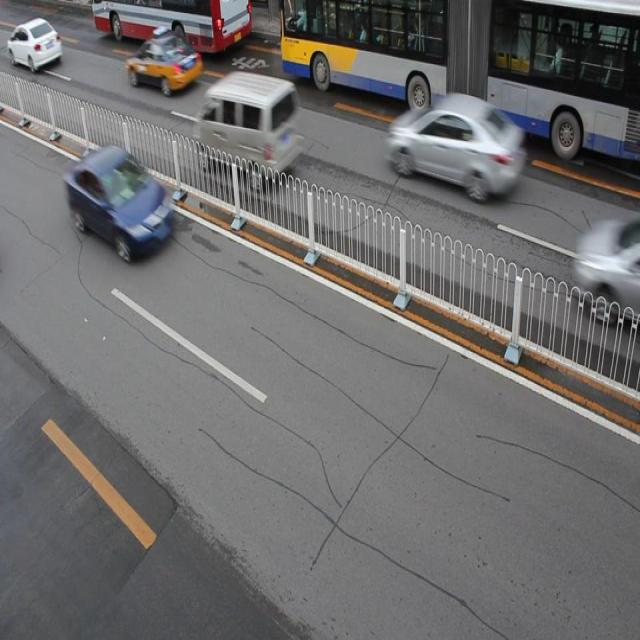car: (388, 92, 525, 200), (65, 142, 172, 261), (126, 30, 202, 96), (9, 18, 62, 73)
truck: (195, 70, 301, 186)
van: (281, 1, 640, 158), (92, 1, 250, 55)
